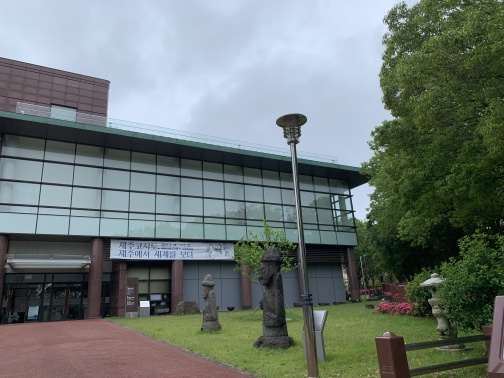Museum: (5, 98, 380, 326)
